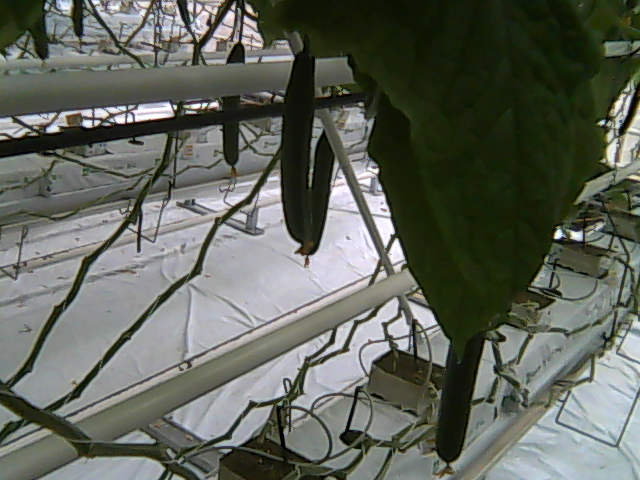concombre: (433, 332, 488, 480), (280, 39, 317, 258)
